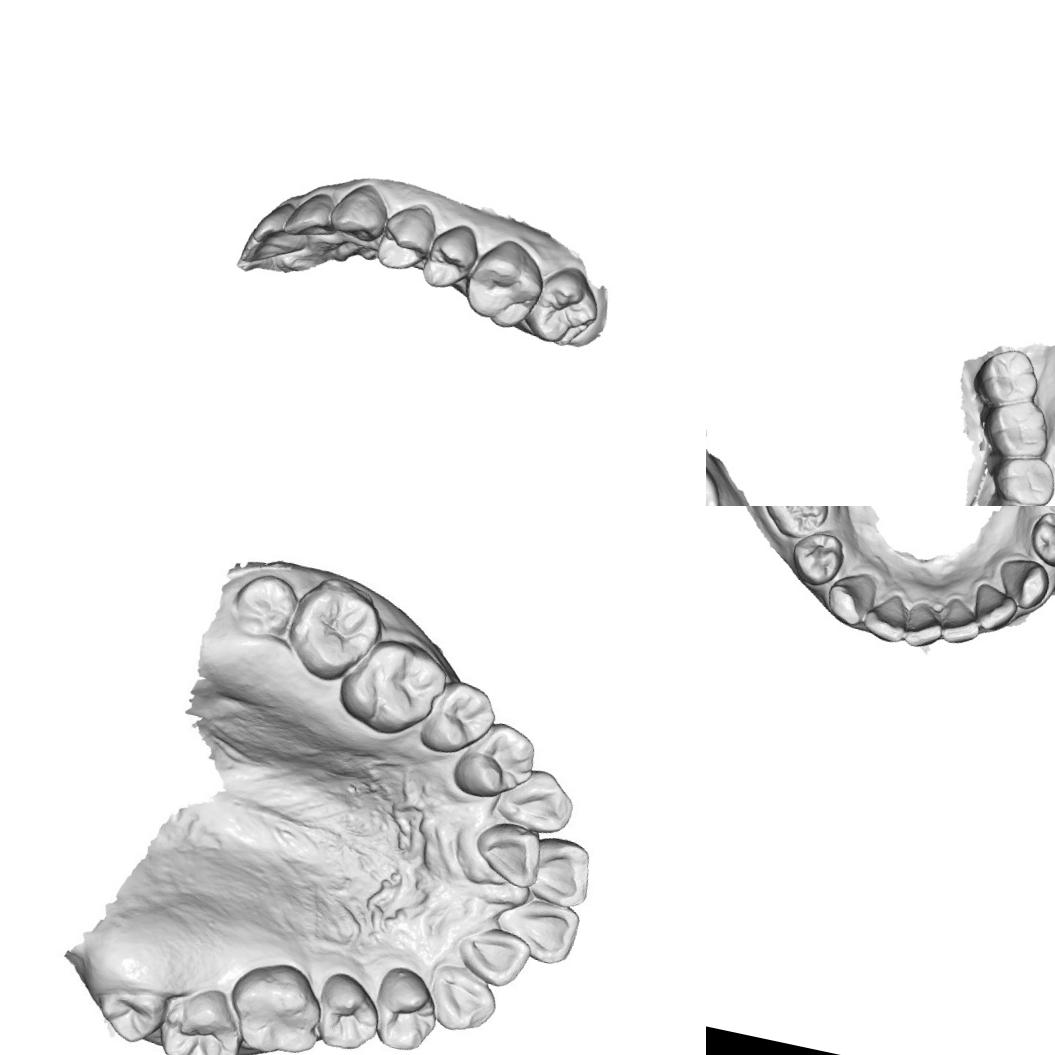canine: (424, 958, 502, 1038), (501, 761, 580, 838), (326, 176, 395, 247), (822, 564, 880, 631), (991, 552, 1055, 612)
incisor: (496, 892, 579, 963), (474, 817, 550, 890), (456, 918, 532, 990), (524, 835, 594, 906), (457, 922, 530, 990), (281, 184, 343, 246), (858, 588, 913, 646), (964, 585, 1022, 639), (232, 232, 293, 282), (929, 598, 986, 651), (898, 600, 950, 654), (248, 197, 300, 249)
molar: (338, 628, 452, 739), (286, 568, 383, 680), (223, 959, 329, 1055), (458, 232, 551, 336), (527, 259, 609, 355), (88, 958, 173, 1046), (156, 977, 249, 1055), (227, 560, 302, 647), (970, 339, 1047, 415), (983, 394, 1055, 465), (755, 506, 837, 544)
premolar: (454, 708, 538, 803), (416, 675, 498, 766), (367, 963, 443, 1055), (310, 968, 384, 1055), (373, 198, 440, 278), (421, 216, 487, 296), (784, 526, 850, 593), (991, 449, 1055, 506), (1024, 506, 1055, 572)
